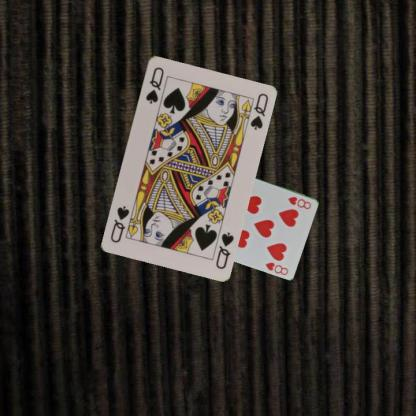8h: (286, 194, 312, 210)
Qs: (142, 64, 165, 104), (213, 229, 235, 270)
